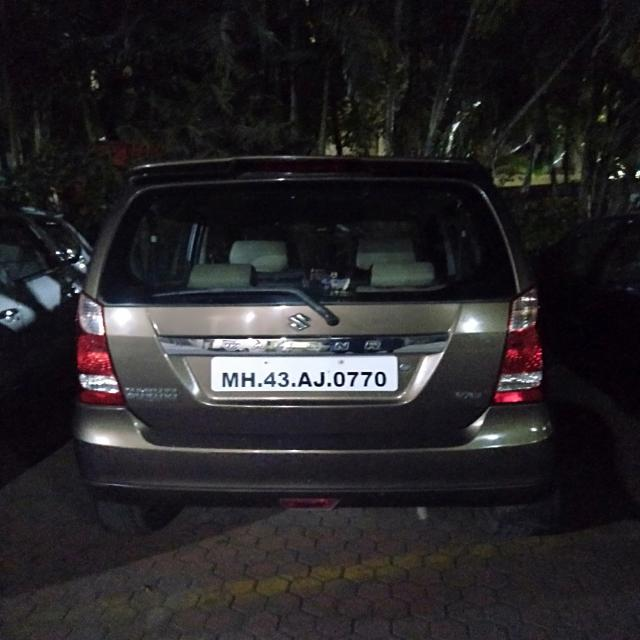Number-Plate: (220, 360, 397, 392)
